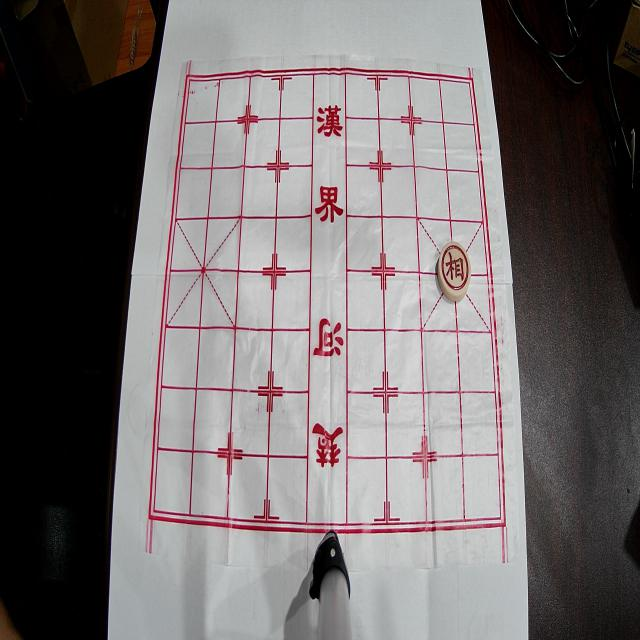red-elephant: (438, 242, 472, 301)
